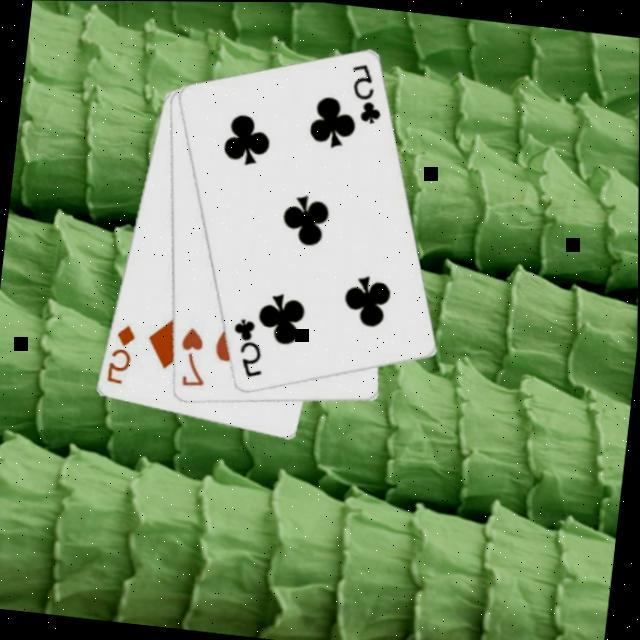5C: (344, 60, 390, 129), (227, 315, 272, 383)
5D: (104, 320, 141, 388)
7H: (174, 324, 213, 392)
